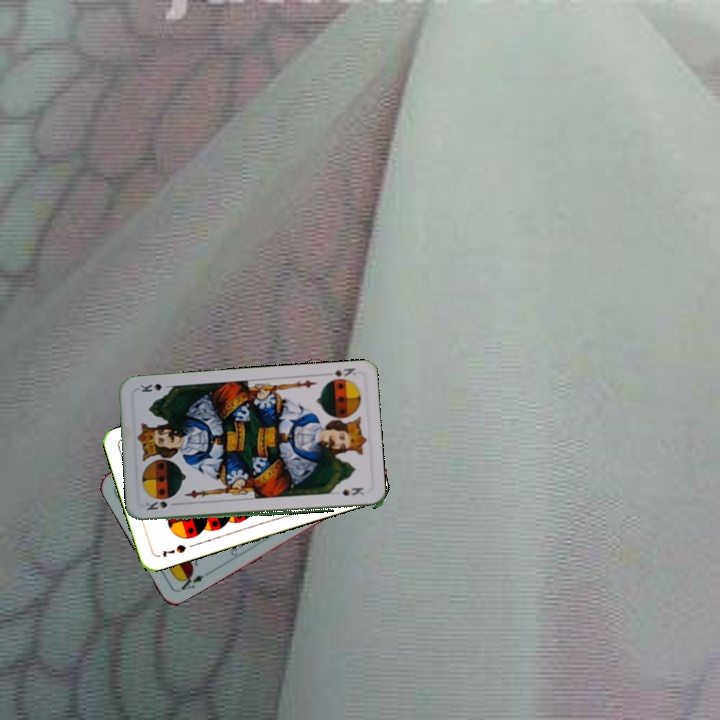EA: (174, 568, 206, 595)
S7: (158, 540, 188, 560)
SK: (321, 364, 358, 379), (142, 498, 170, 513)
